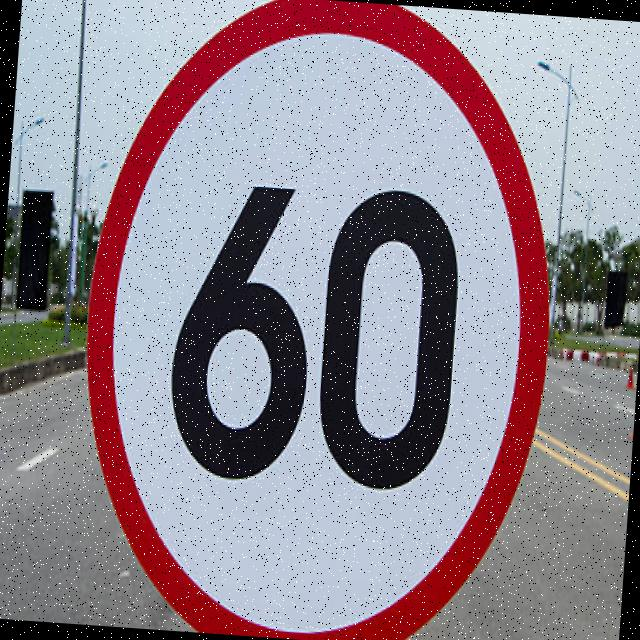speed_limit_60: (62, 0, 573, 640)
